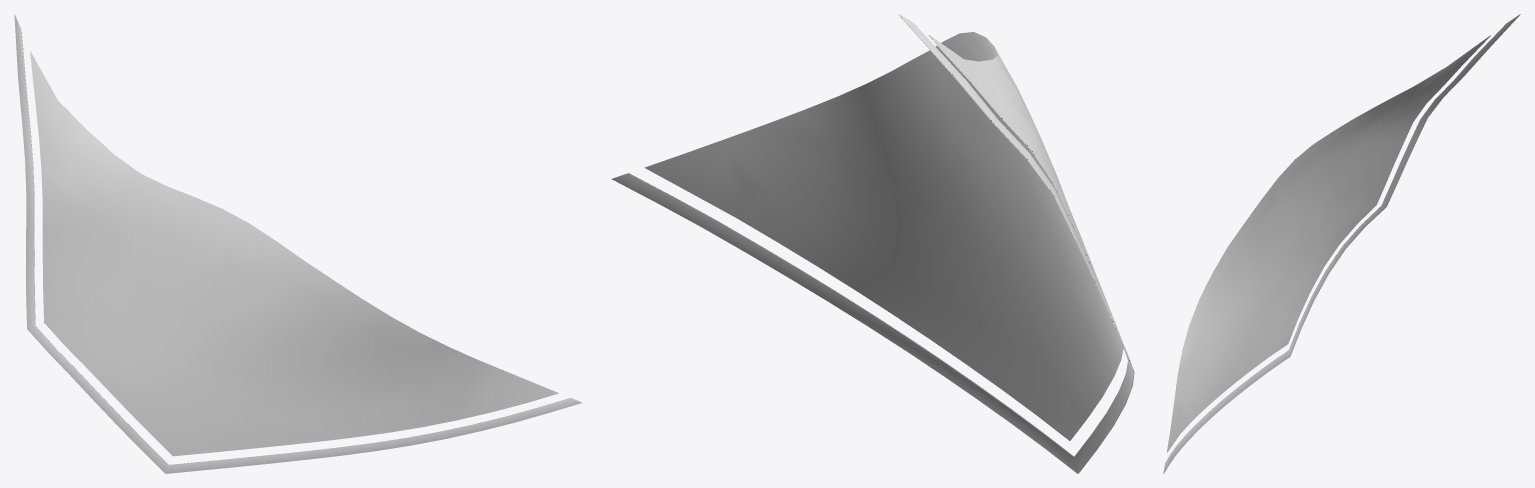
File: Jac_Pocket_Decor_LEFT_V1.glb
The picture shows the model from 3 angles, left to right: view 1: azimuth 30°, elevation 25°; view 2: azimuth 150°, elevation 25°; view 3: azimuth 270°, elevation 25°; orthographic projection. The views are drawn at different scales.
Visible parts, largest first — view 1: Jac_Pocket_Decor_LEFT_V1.001; view 2: Jac_Pocket_Decor_LEFT_V1.001; view 3: Jac_Pocket_Decor_LEFT_V1.001.
Part boxes in pixels (left/top/right/bottom): Jac_Pocket_Decor_LEFT_V1.001: left=14, top=14, right=581, bottom=473; Jac_Pocket_Decor_LEFT_V1.001: left=611, top=14, right=1134, bottom=473; Jac_Pocket_Decor_LEFT_V1.001: left=1163, top=14, right=1520, bottom=473.
Bounding box in the file's own units: 0.097 × 0.0798 × 0.0777.
Materials: 1 (1 with a texture image).
